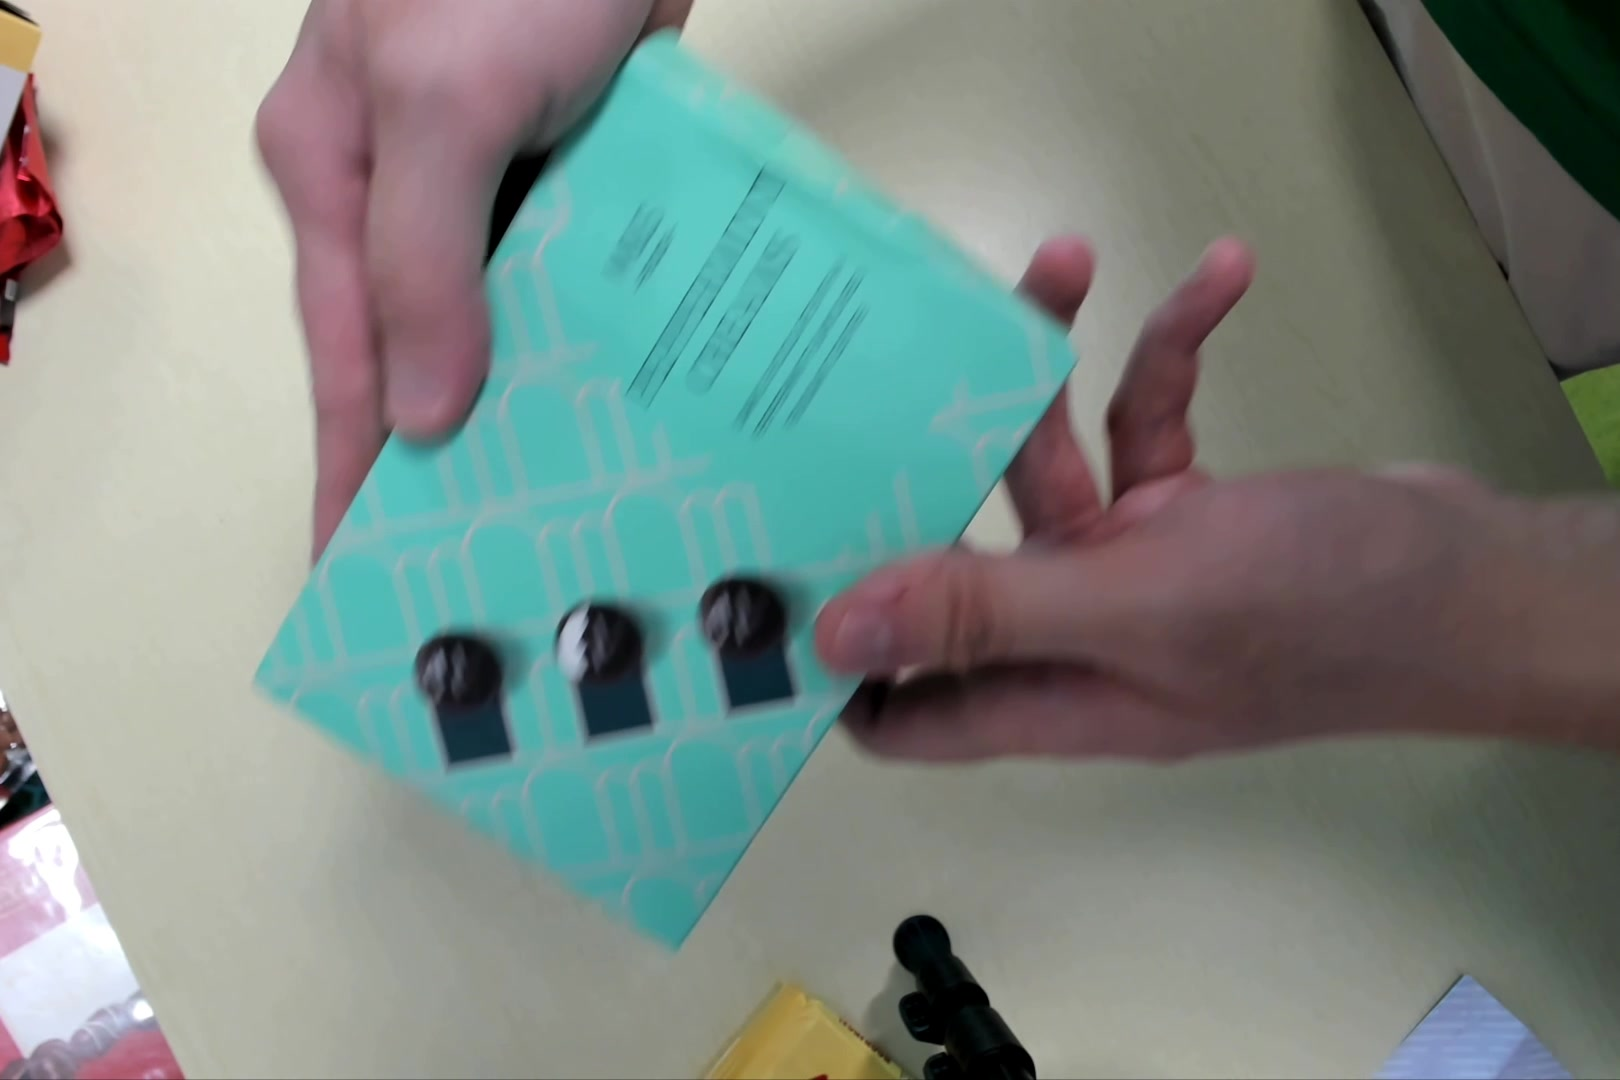SweetsChocolatesOthers_100-199g_NonHalal_NonHealthy: (250, 64, 1080, 959)
